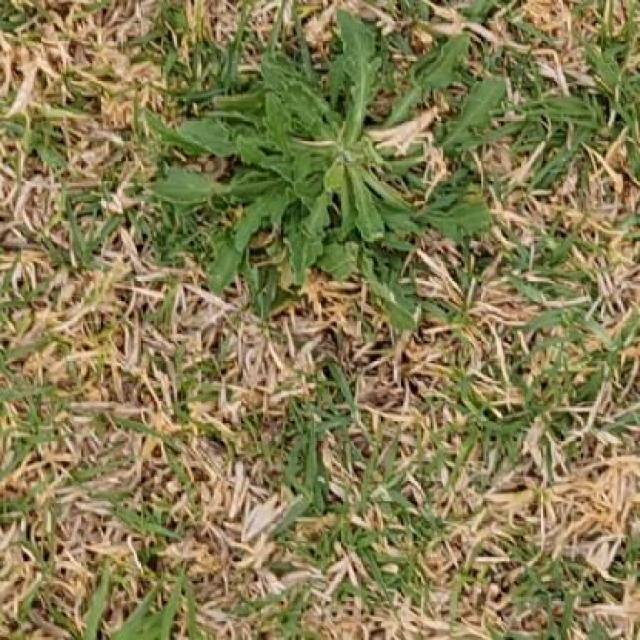weed: (154, 11, 508, 331)
